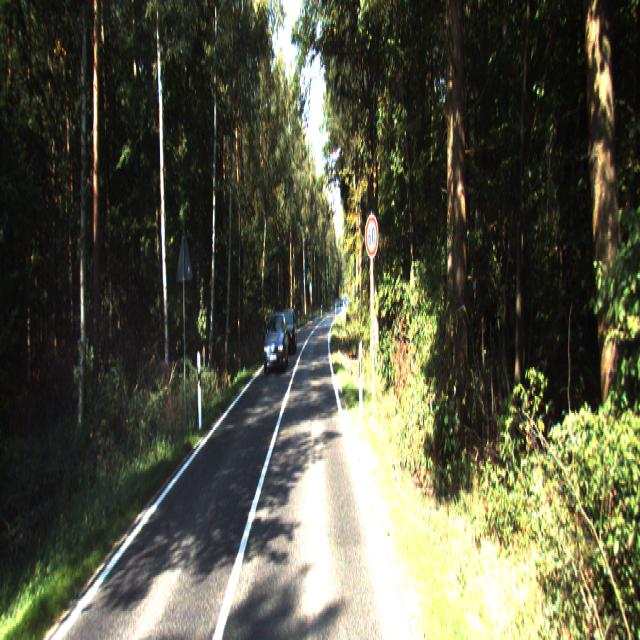Car: (264, 311, 288, 375), (280, 307, 299, 358)
DontCare: (333, 290, 346, 313)
